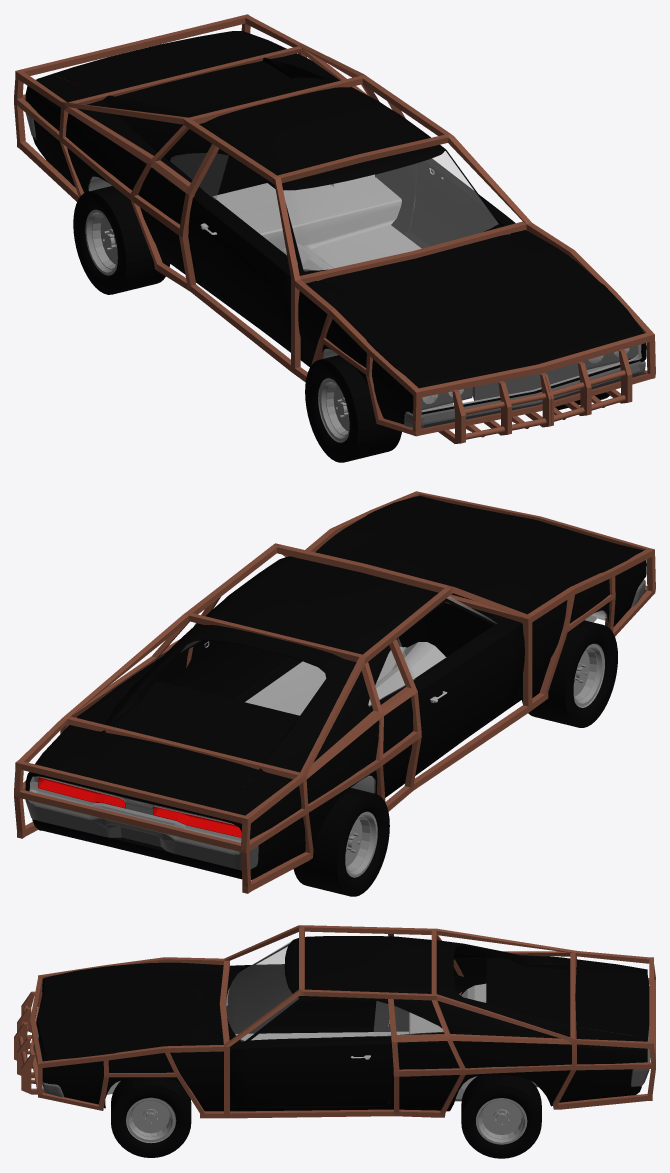
File: Charger.old.fbx
The picture shows the model from 3 angles, top to bottom: view 1: azimuth 30°, elevation 25°; view 2: azimuth 150°, elevation 25°; view 3: azimuth 270°, elevation 25°; orthographic projection. The views are drawn at different scales.
Parts seen in each view (by area): view 1: Dodge_Charger; view 2: Dodge_Charger; view 3: Dodge_Charger.
Part boxes in pixels (x1,y1,x2,y2): Dodge_Charger: (14,14,655,462); Dodge_Charger: (14,491,655,896); Dodge_Charger: (14,925,655,1158).
Size of the model in its own units: 5.84 by 4.2 by 16.03.
